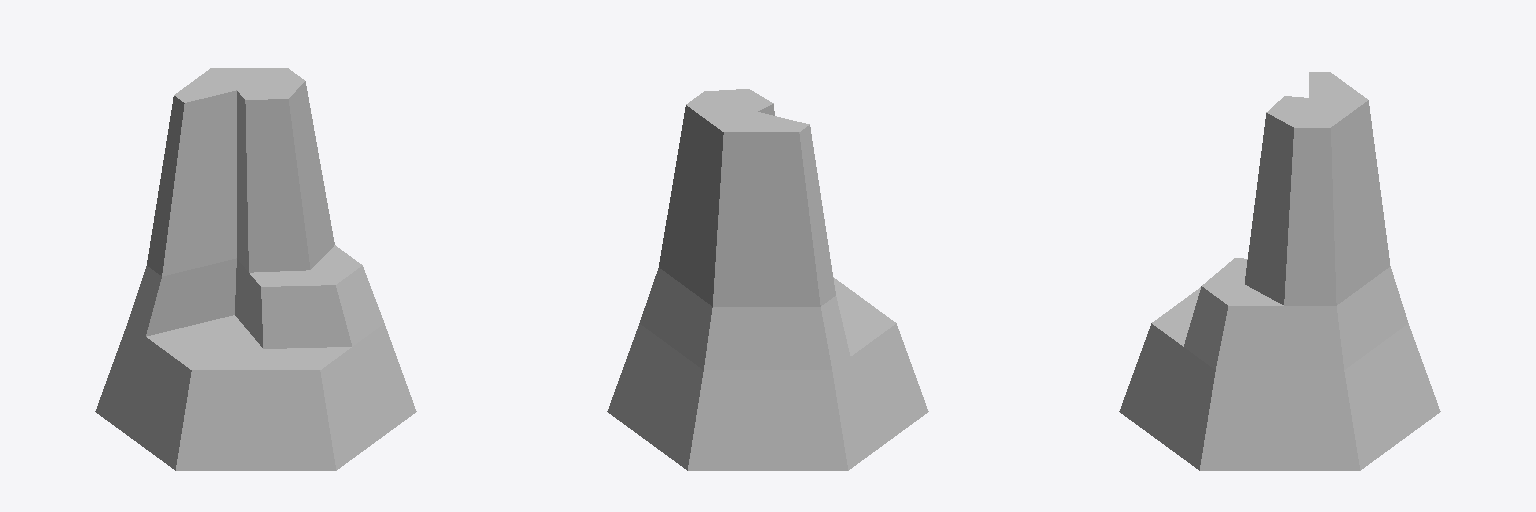
The model's file is rockFormationSmall.obj.
The picture shows the model from 3 angles: view 1: azimuth 30°, elevation 25°; view 2: azimuth 150°, elevation 25°; view 3: azimuth 270°, elevation 25°; orthographic projection.
Visible parts, largest first — view 1: rockFormationSmall; view 2: rockFormationSmall; view 3: rockFormationSmall.
Part boxes in pixels (x1,y1,x2,y2): rockFormationSmall: (95, 68, 416, 470); rockFormationSmall: (607, 89, 928, 470); rockFormationSmall: (1119, 72, 1440, 470).
Size of the model in its own units: 0.5399 by 0.6674 by 0.6234.